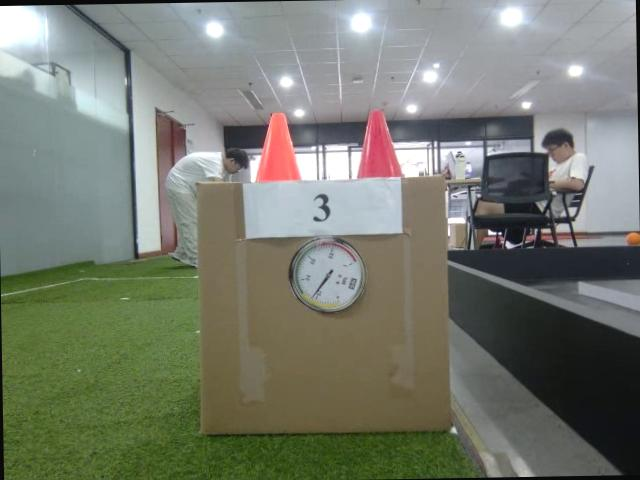3: (311, 192, 332, 223)
Dashboard: (288, 234, 366, 316)
orange_barrel: (252, 109, 304, 182)
red_barrel: (354, 106, 404, 180)
ssi: (349, 274, 356, 292)
